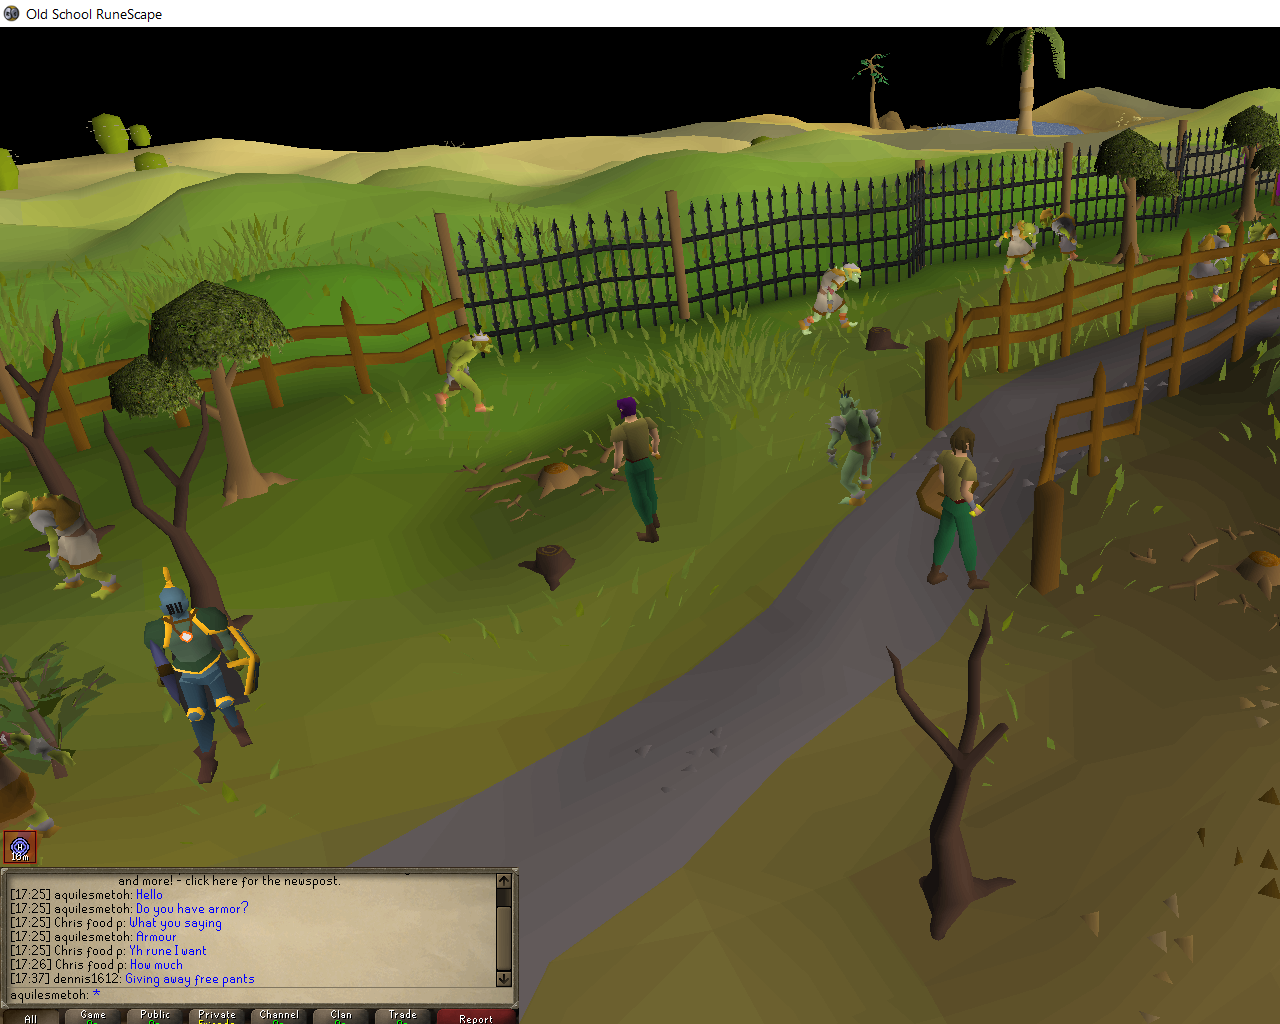Goblin: (1, 486, 127, 603), (1, 727, 76, 842), (818, 385, 887, 507), (433, 329, 506, 417), (797, 265, 864, 339), (1190, 219, 1234, 307), (1037, 207, 1090, 265), (1242, 216, 1280, 298), (991, 222, 1041, 275)
